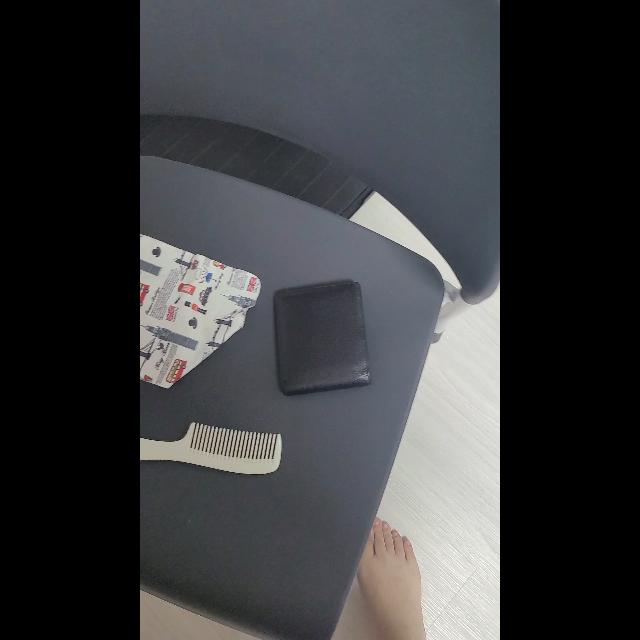COMB: (140, 422, 282, 476)
Glasses cleaning cloth: (140, 234, 260, 390)
WALLET: (273, 280, 371, 396)
